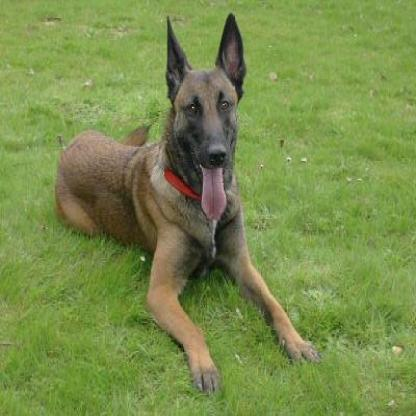malinois: (53, 4, 317, 395)
